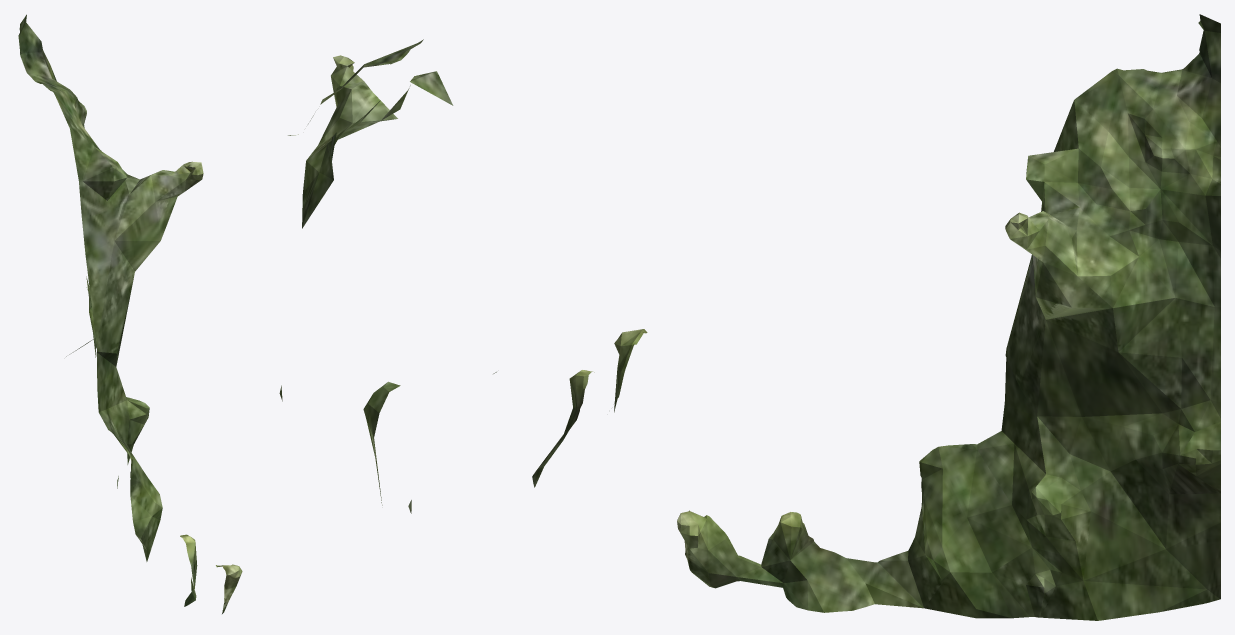
3 views of the same model, side by side, from view 1: azimuth 30°, elevation 25°; view 2: azimuth 150°, elevation 25°; view 3: azimuth 270°, elevation 25° (orthographic). The views are drawn at different scales.
Size of the model in its own units: 0.7303 by 2.95 by 2.49.
2 materials, 2 textured.
